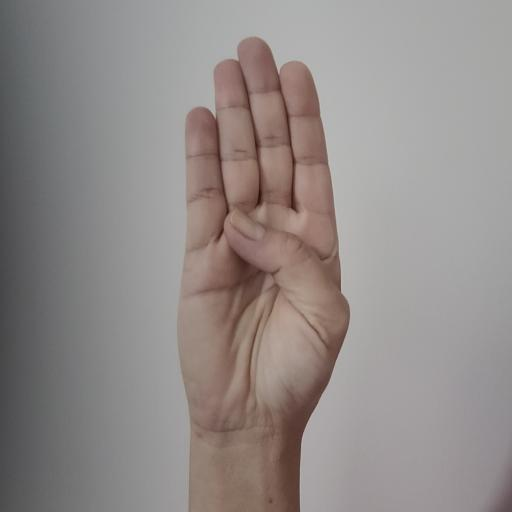B: (177, 37, 349, 437)
